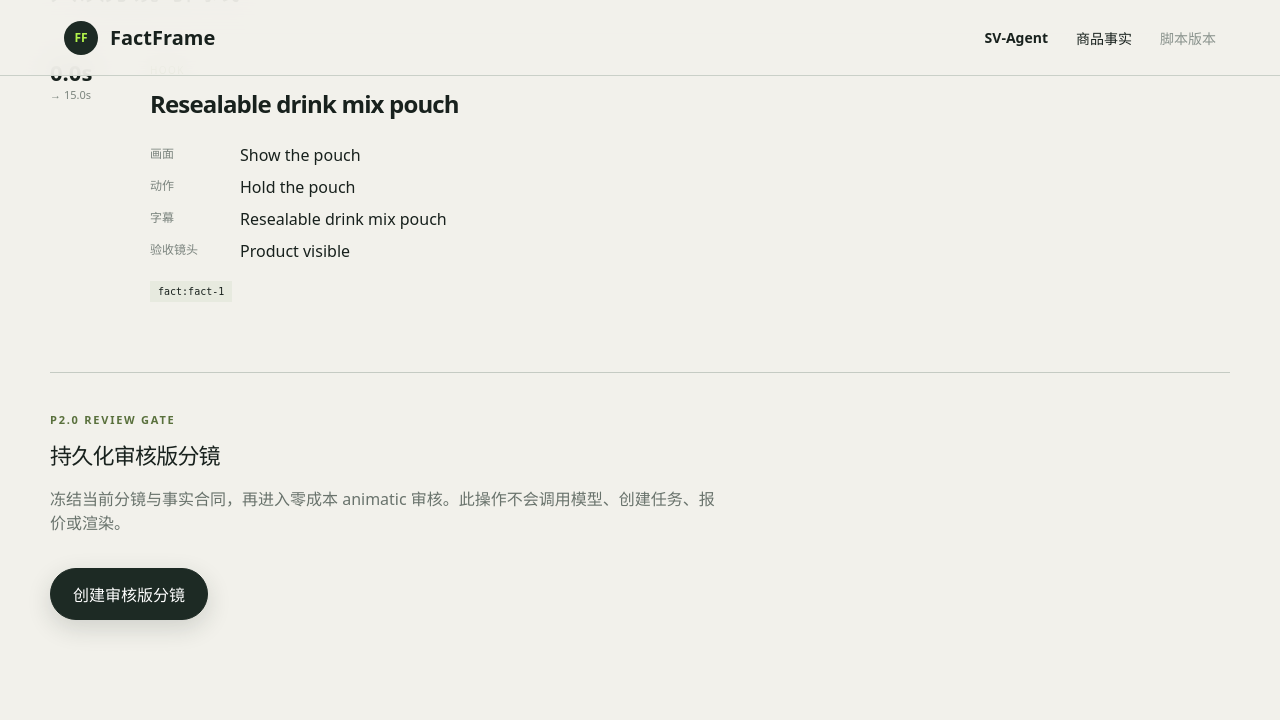
Test: script versions › freezes a ready storyboard and approves its zero-cost preview
(page scrolled)
Click the button "创建审核版分镜" at (129, 594), box [50,568,208,620]
(page scrolled)
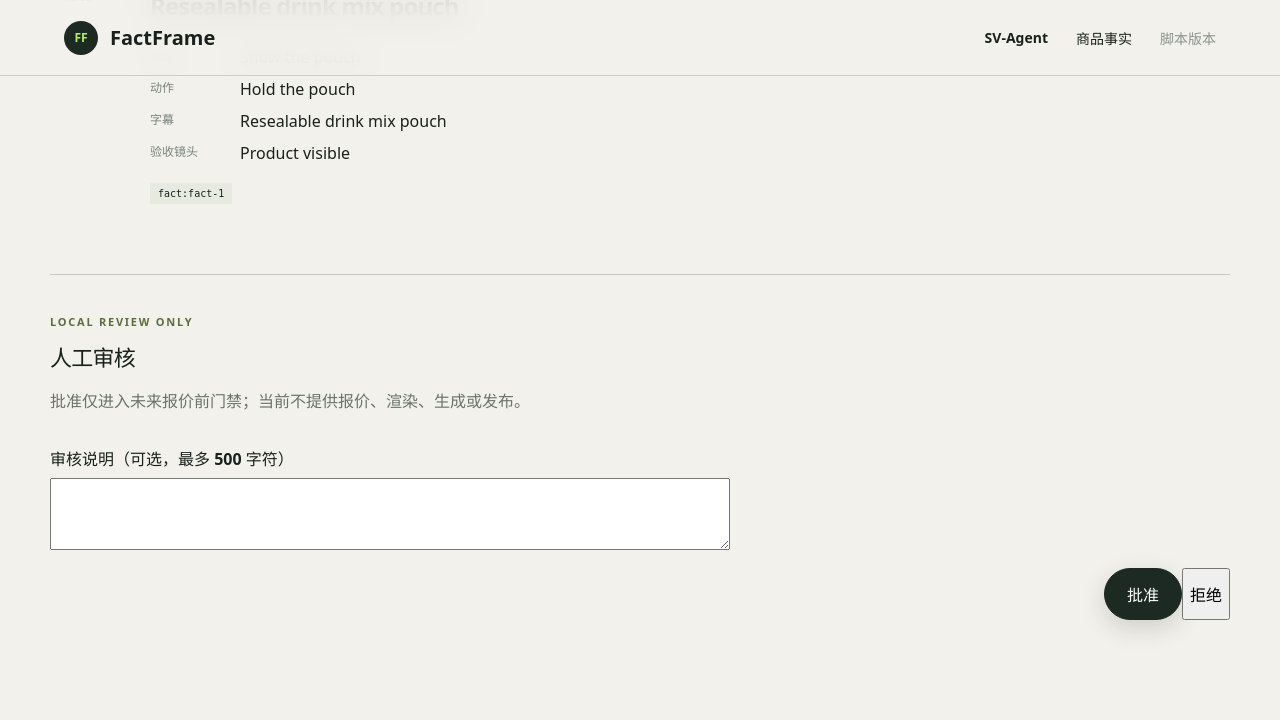
Click the button "批准" at (1143, 594), box [1104,568,1182,620]
(page scrolled)
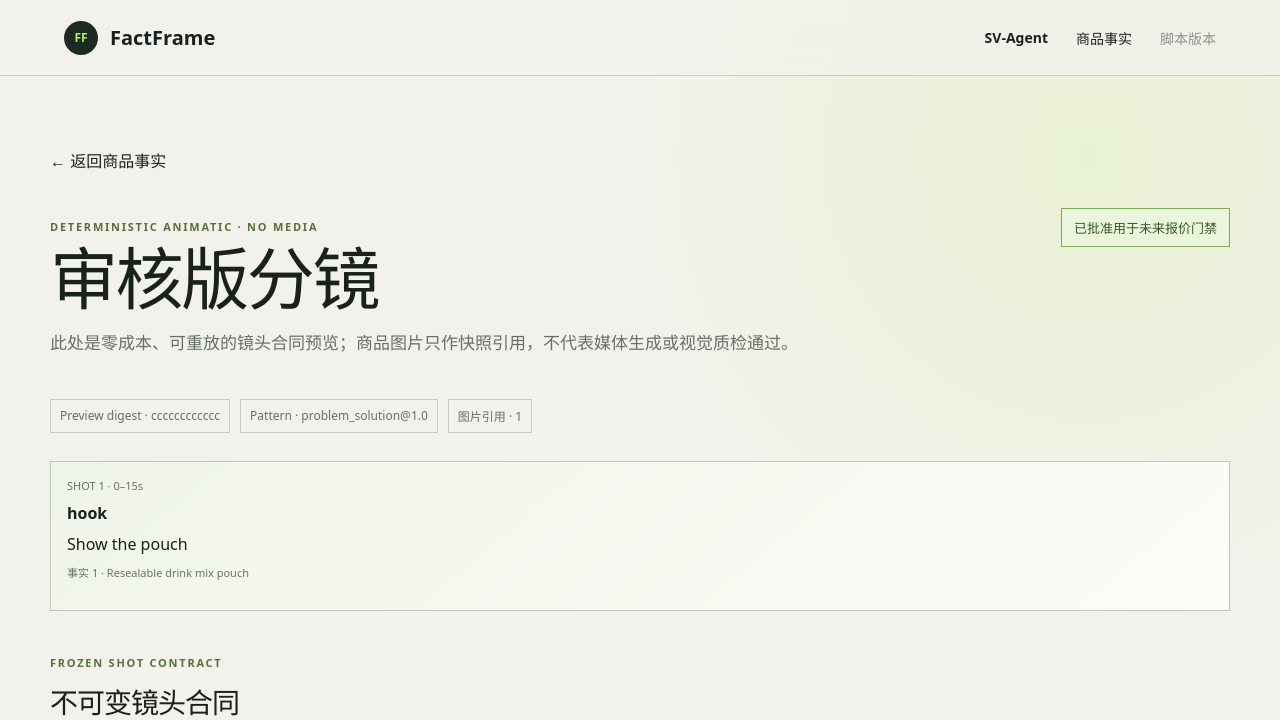
Now the text "已批准用于未来报价门禁" is shown, box [1061,208,1230,247]
